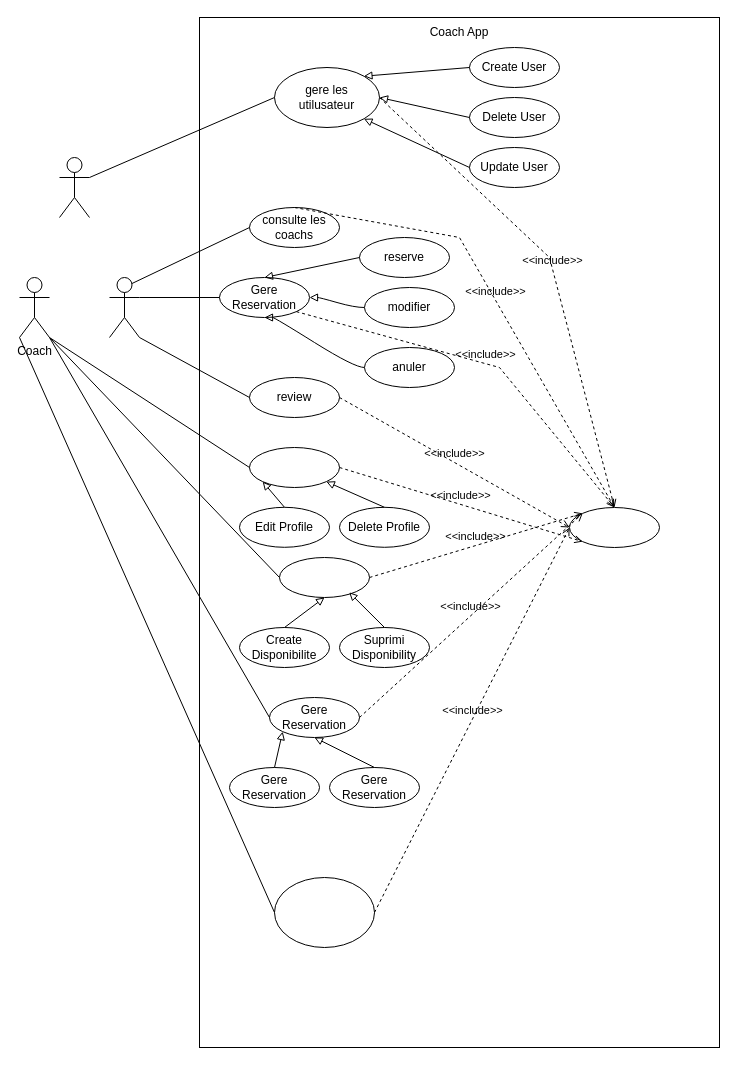
This 737x1065 diagram has some shape labels left out. The centre of each missing label's shape, as x and y in pixels:
Admin: (74,187)
Athlete: (124,307)
consulte ses statistiques et avis: (324,912)
gerer disponibilite: (324,577)
gerer profile: (294,467)
Login: (614,527)
